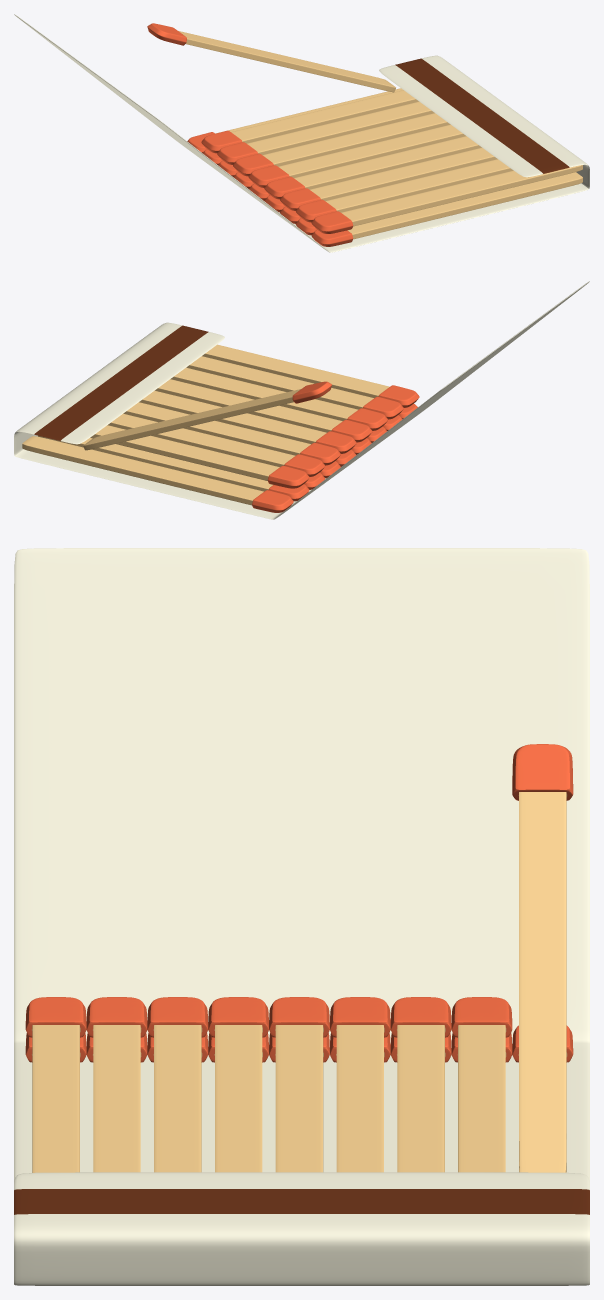
Rendered from Matchbook.fbx.
3 renders of one model, top to bottom at view 1: azimuth 30°, elevation 25°; view 2: azimuth 150°, elevation 25°; view 3: azimuth 270°, elevation 25°, orthographic. The views are drawn at different scales.
Visible parts, largest first — view 1: Matches, Book, Matches.001; view 2: Matches, Book, Matches.001; view 3: Book, Matches, Matches.001.
Boxes of the visible parts, x1=… form: Matches: x1=187, y1=88, x2=582, y2=246; Book: x1=14, y1=14, x2=589, y2=252; Matches.001: x1=147, y1=23, x2=395, y2=92; Matches: x1=22, y1=344, x2=419, y2=512; Book: x1=14, y1=281, x2=589, y2=519; Matches.001: x1=83, y1=381, x2=331, y2=450; Book: x1=14, y1=548, x2=589, y2=1285; Matches: x1=25, y1=997, x2=573, y2=1172; Matches.001: x1=512, y1=744, x2=573, y2=1172.
Bounding box in the file's own units: 332 × 128 × 199.
